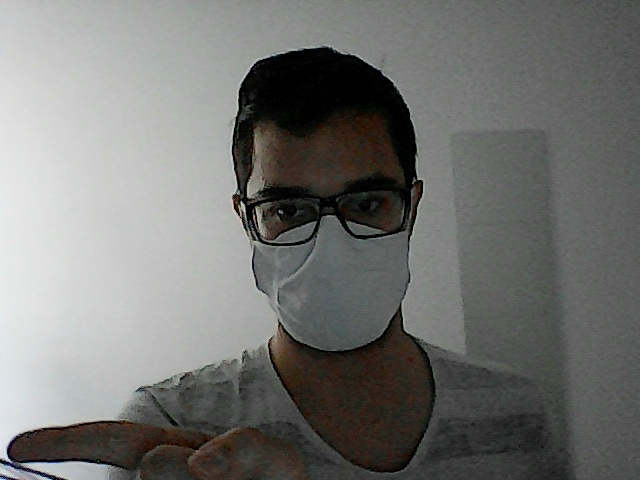right: (3, 399, 313, 480)
